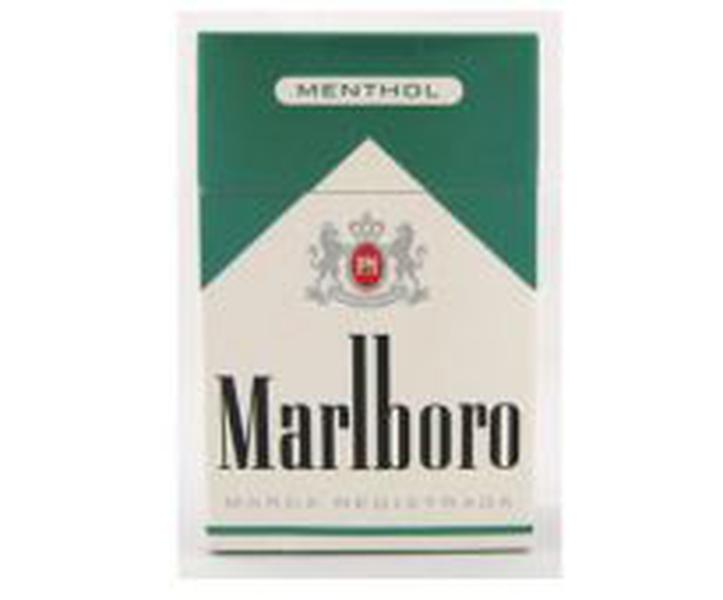marlboro_mentol: (199, 18, 533, 553)
